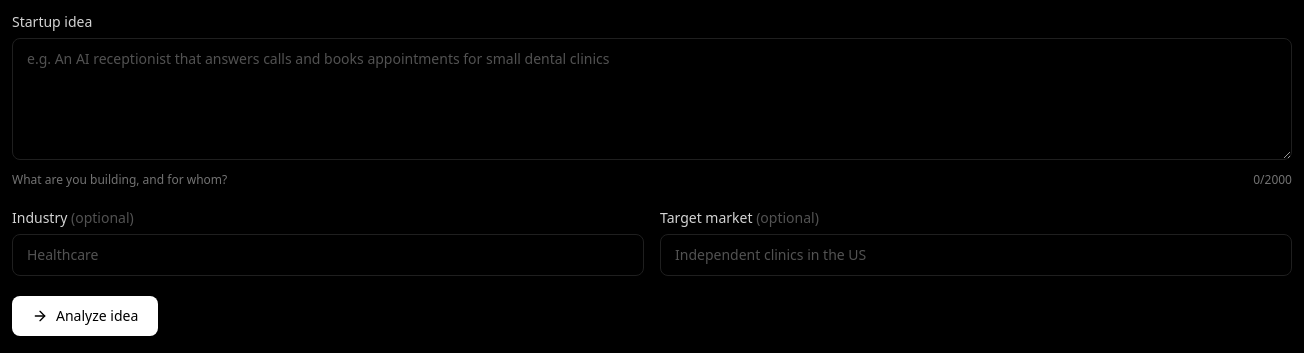
Scenario: IdeaForm › blocks submission of a too-short idea
Replace the text in the text box labelled "Startup idea" with "short" at (652, 99), box [12, 38, 1292, 160]
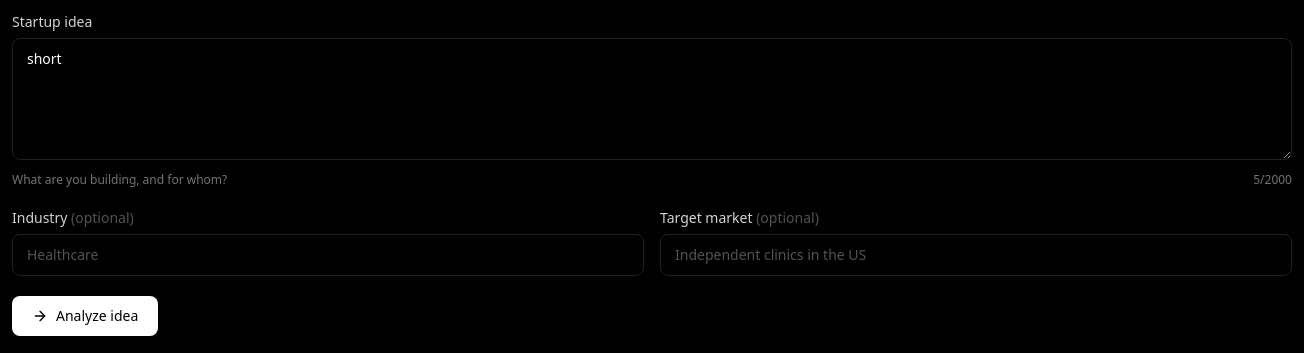
Click the button "Analyze idea" at (85, 316), box [12, 296, 158, 336]
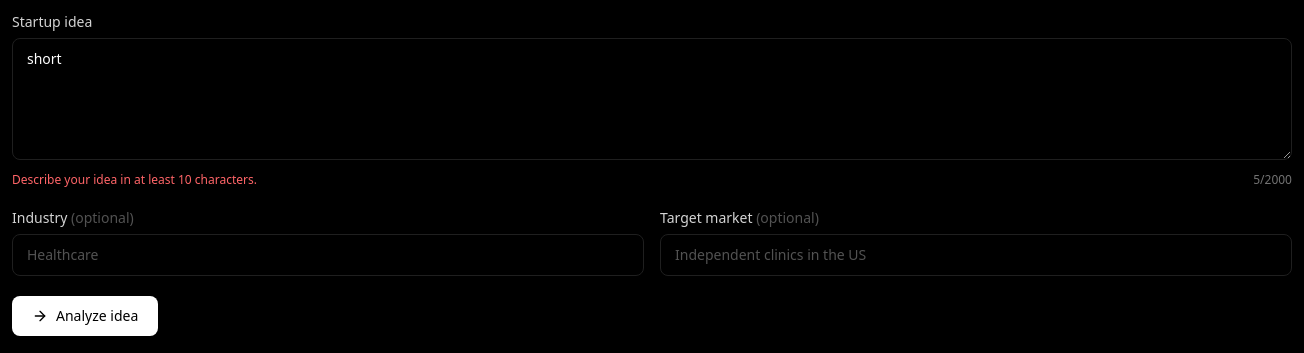
Expected: the text "Describe your idea in at least 10 characters." is shown, [12, 172, 257, 188]
